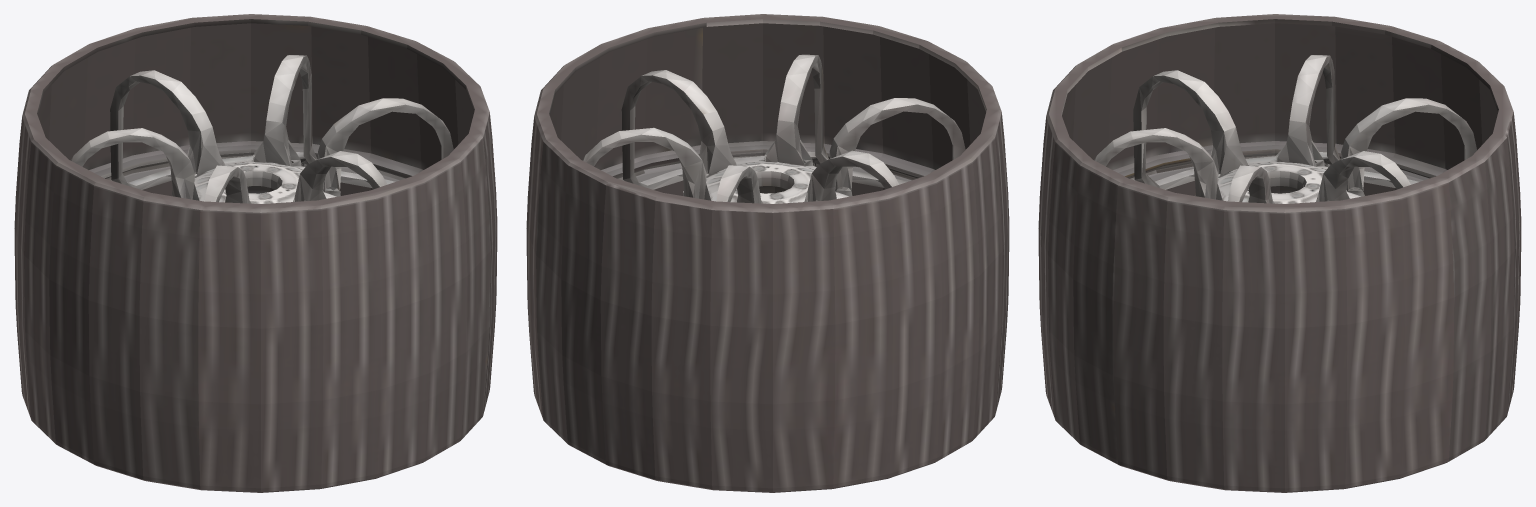
File: Wheel_LeftRear.gltf
The picture shows the model from 3 angles, left to right: view 1: azimuth 30°, elevation 25°; view 2: azimuth 150°, elevation 25°; view 3: azimuth 270°, elevation 25°; orthographic projection.
Parts seen in each view (by area): view 1: Mesh_0; view 2: Mesh_0; view 3: Mesh_0.
Boxes of the visible parts, bbox=[...] form: Mesh_0: bbox=[14, 14, 497, 492]; Mesh_0: bbox=[526, 14, 1009, 492]; Mesh_0: bbox=[1038, 14, 1521, 492].
Size of the model in its own units: 0.5098 by 0.3306 by 0.5098.
Materials: 1 (1 with a texture image).
